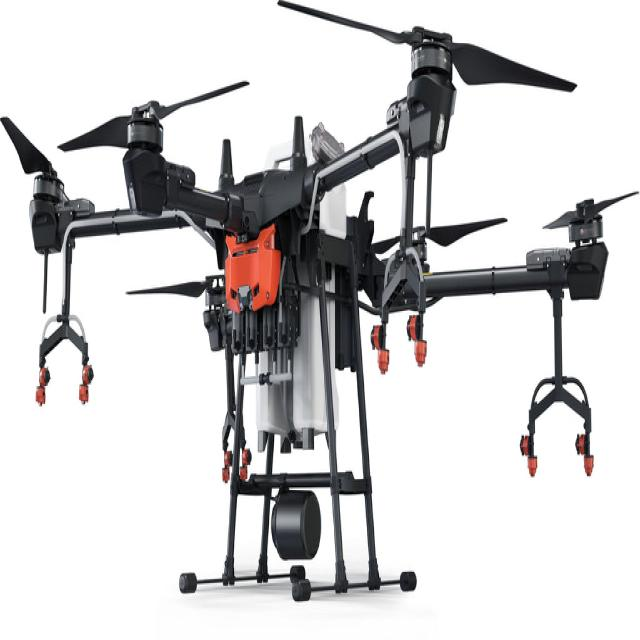drone: (5, 0, 640, 589)
